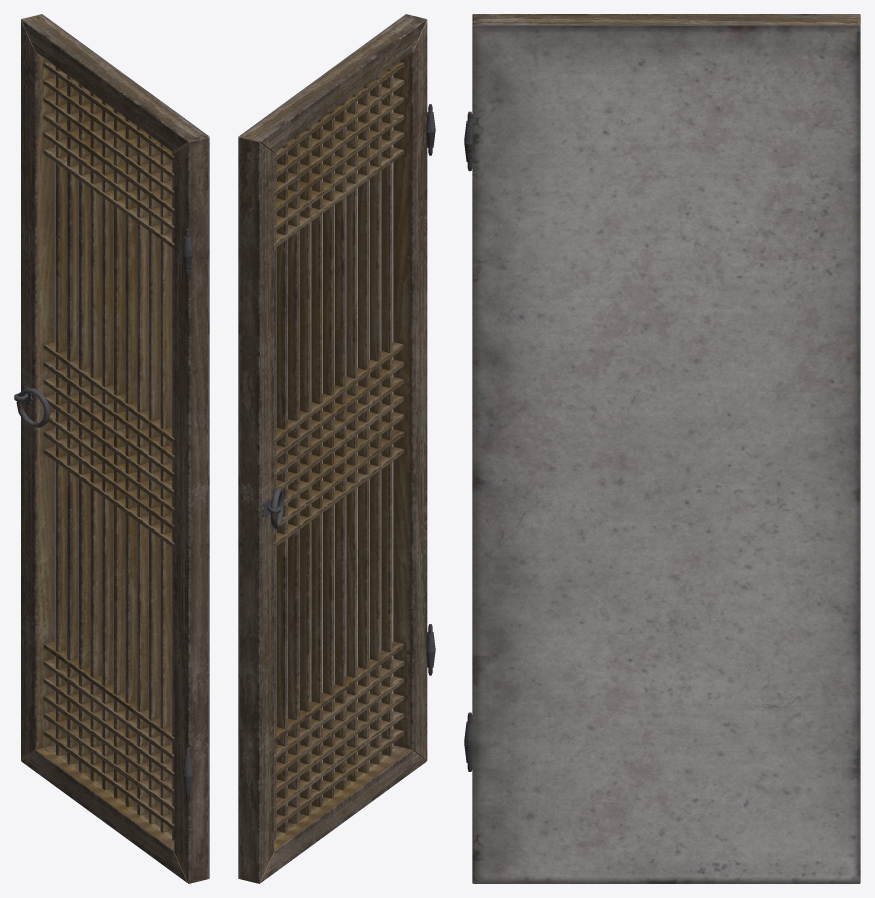
File: SM_GPG_Door03a.fbx
3 views of the same model, side by side, from view 1: azimuth 30°, elevation 25°; view 2: azimuth 150°, elevation 25°; view 3: azimuth 270°, elevation 25° (orthographic). The views are drawn at different scales.
Parts seen in each view (by area): view 1: SM_GPG_Door03a; view 2: SM_GPG_Door03a; view 3: SM_GPG_Door03a.
Boxes of the visible parts, x1=… form: SM_GPG_Door03a: x1=14, y1=14, x2=209, y2=883; SM_GPG_Door03a: x1=238, y1=14, x2=435, y2=883; SM_GPG_Door03a: x1=464, y1=14, x2=860, y2=883.
Size of the model in its own units: 9.65 by 83.73 by 200.
Materials: 1 (1 with a texture image).
